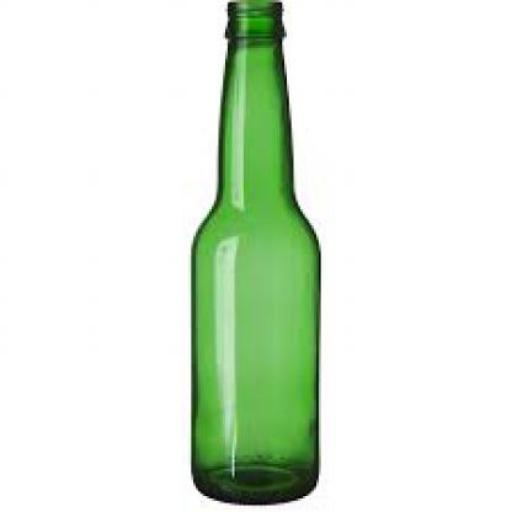glass: (188, 0, 319, 502)
